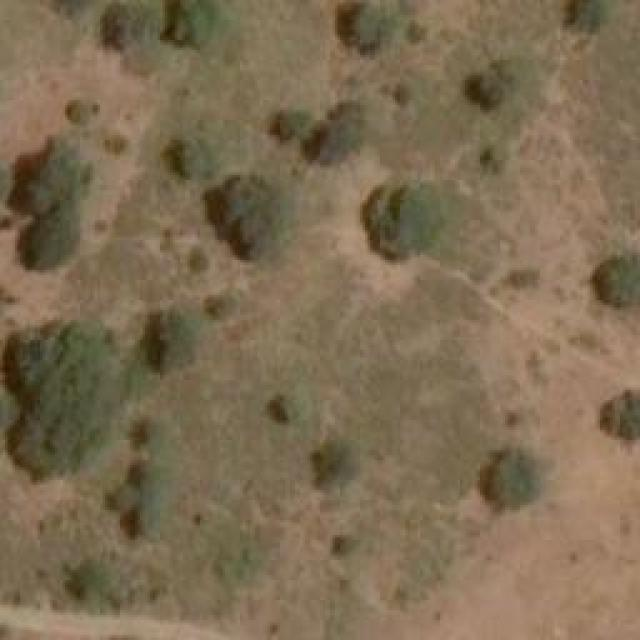Tree: (3, 325, 126, 478), (205, 173, 290, 258), (365, 177, 445, 265), (70, 553, 165, 616), (18, 138, 93, 213), (100, 460, 170, 538), (23, 205, 83, 273), (145, 307, 195, 375), (475, 453, 533, 506), (159, 0, 212, 52), (308, 110, 358, 163), (337, 2, 385, 50), (308, 443, 358, 488), (100, 8, 145, 51), (602, 390, 640, 438), (602, 255, 640, 303), (565, 0, 610, 38), (468, 73, 501, 106), (480, 143, 513, 176), (168, 143, 198, 178), (328, 533, 361, 563), (273, 392, 308, 420), (65, 100, 95, 128), (275, 108, 303, 133), (105, 135, 128, 155)
